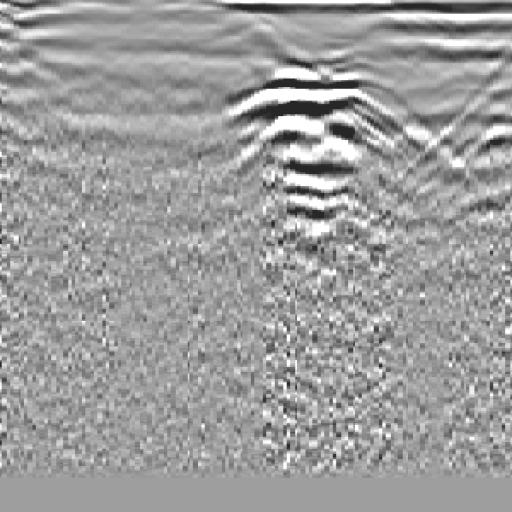metalic: (197, 48, 450, 300)
